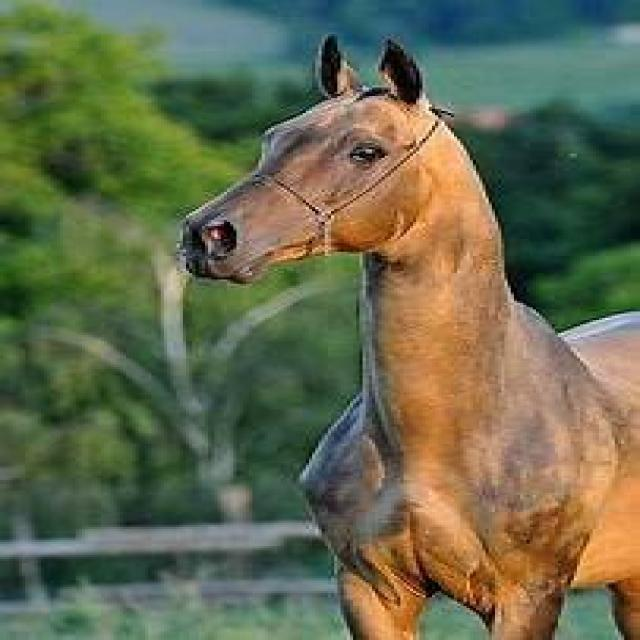horse: (181, 38, 637, 640)
